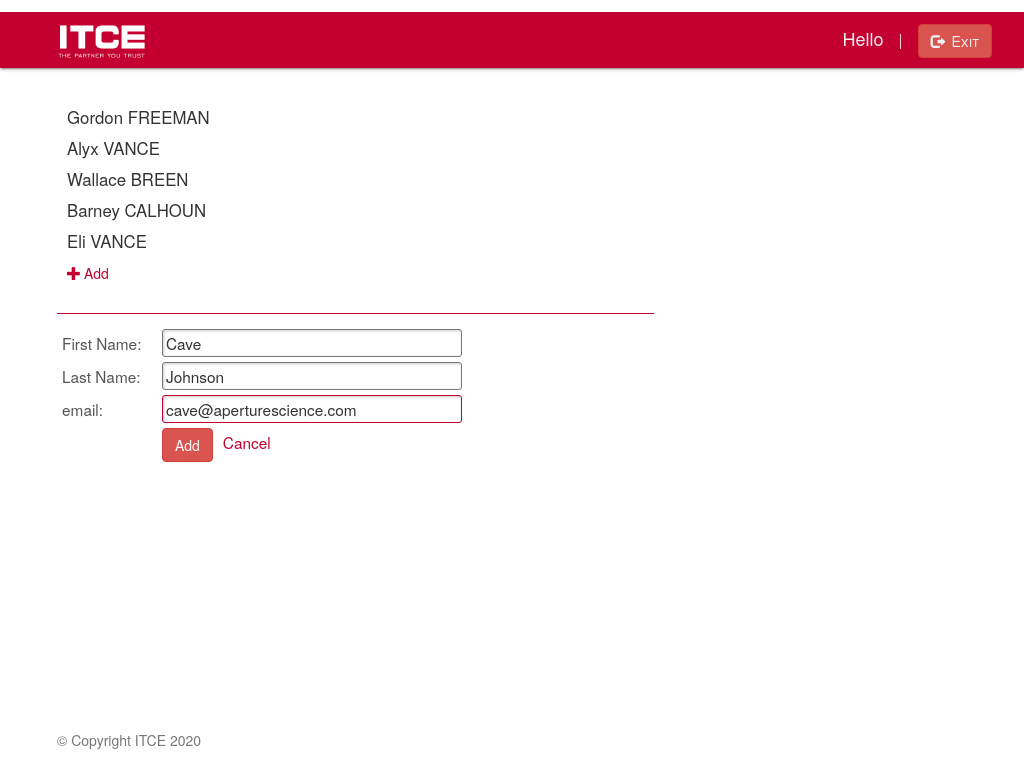
Test: Filling out a form › Filling out a form field › Should submit form successfully
Click the submit button at (188, 445), box [162,428,213,462]
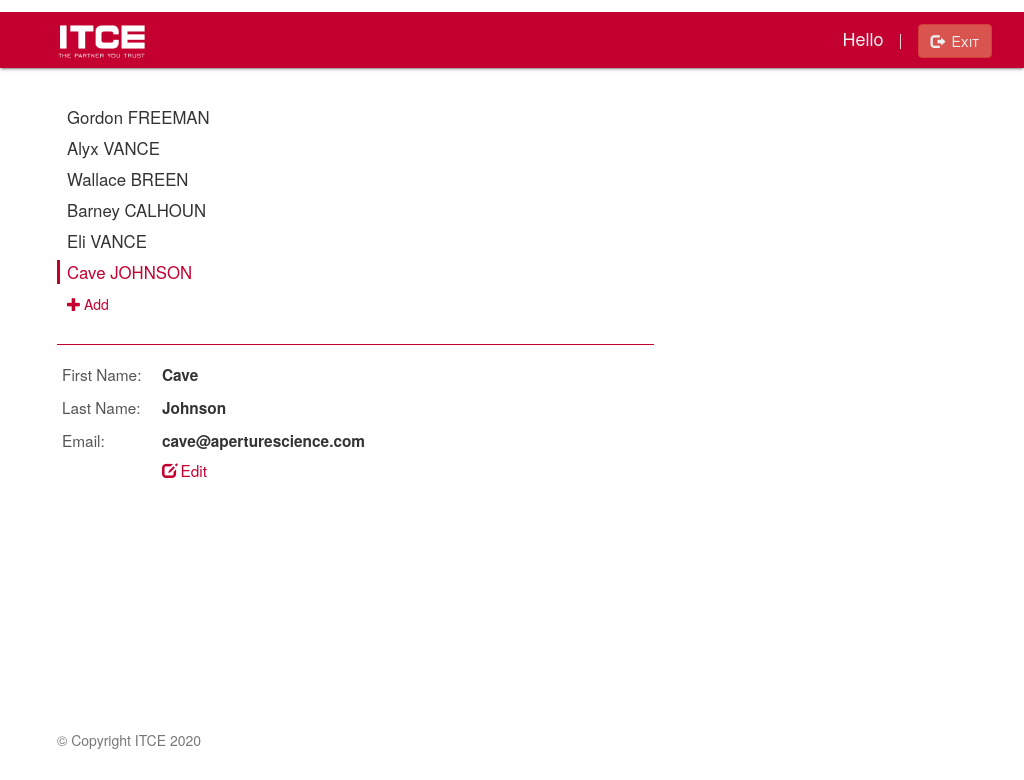
Check: the form is gone
